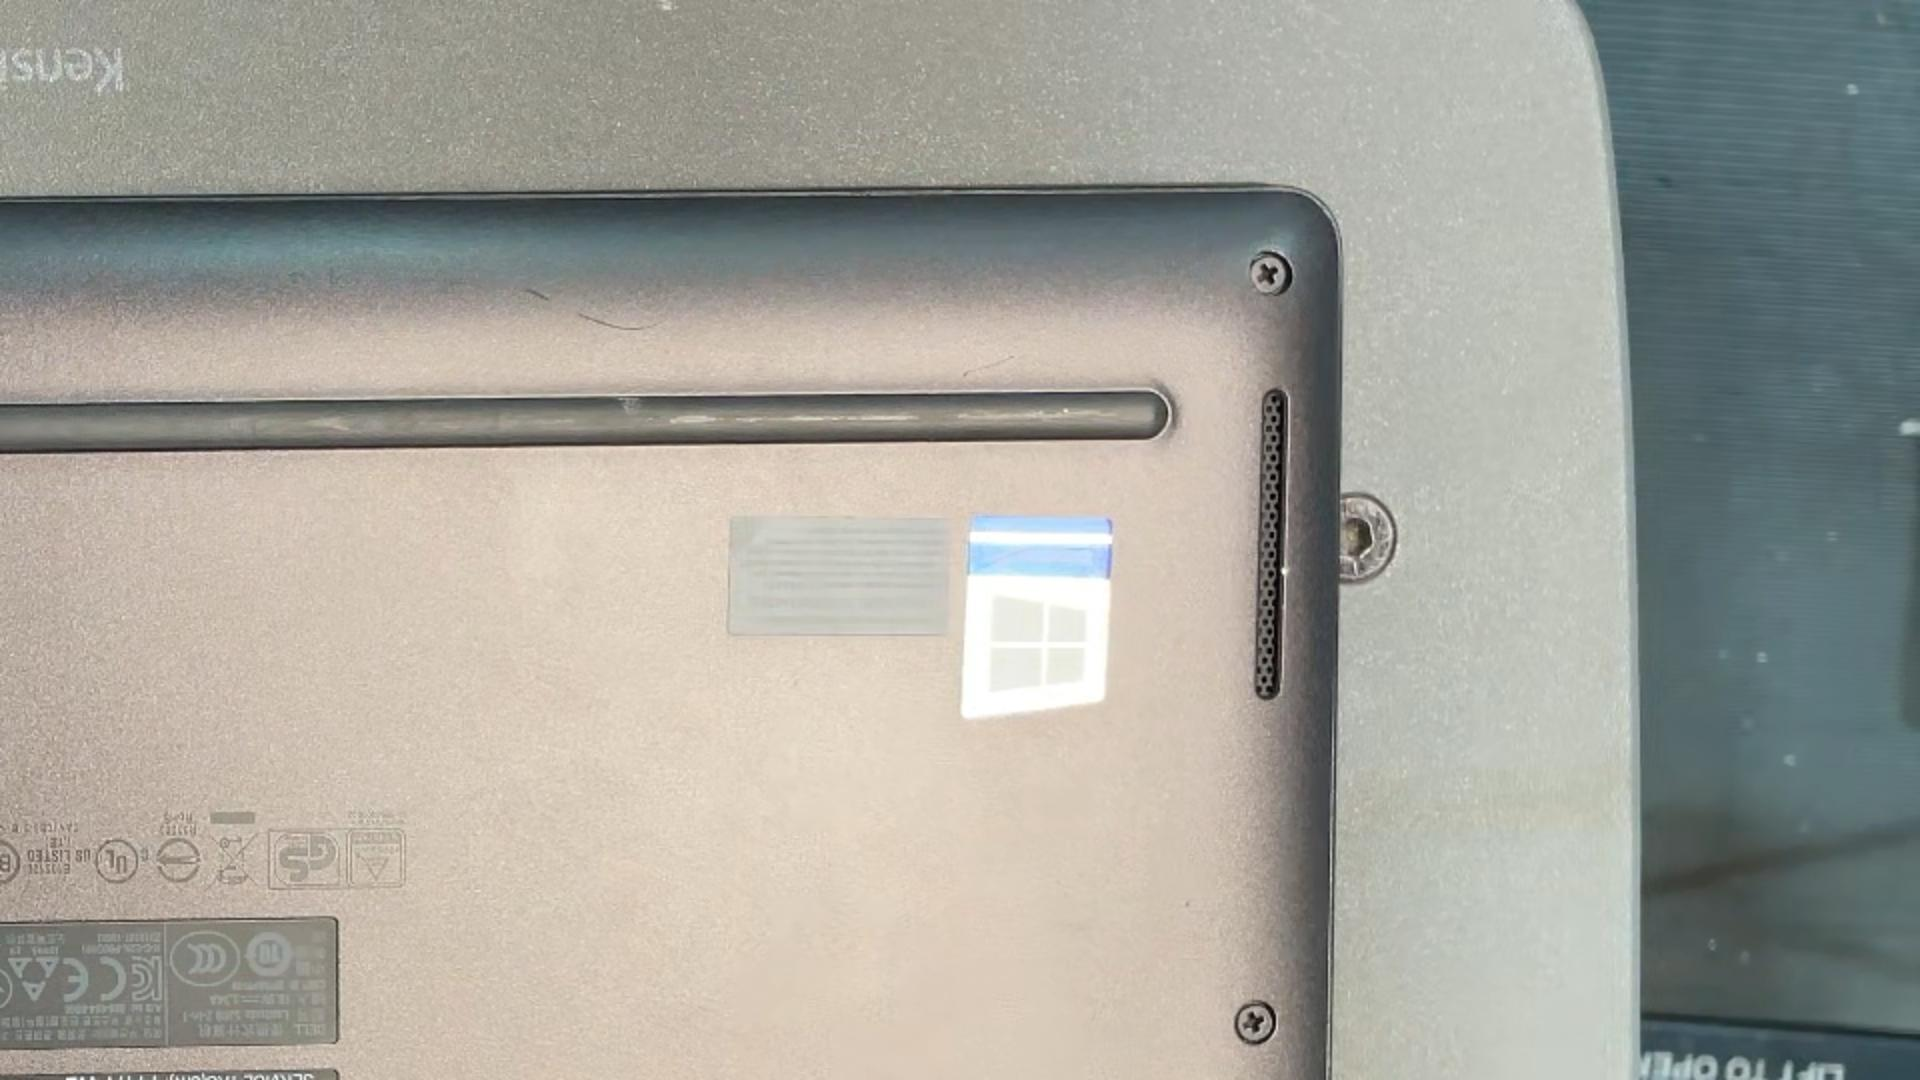chip: (1278, 563, 1294, 578)
scratches: (525, 284, 662, 335)
